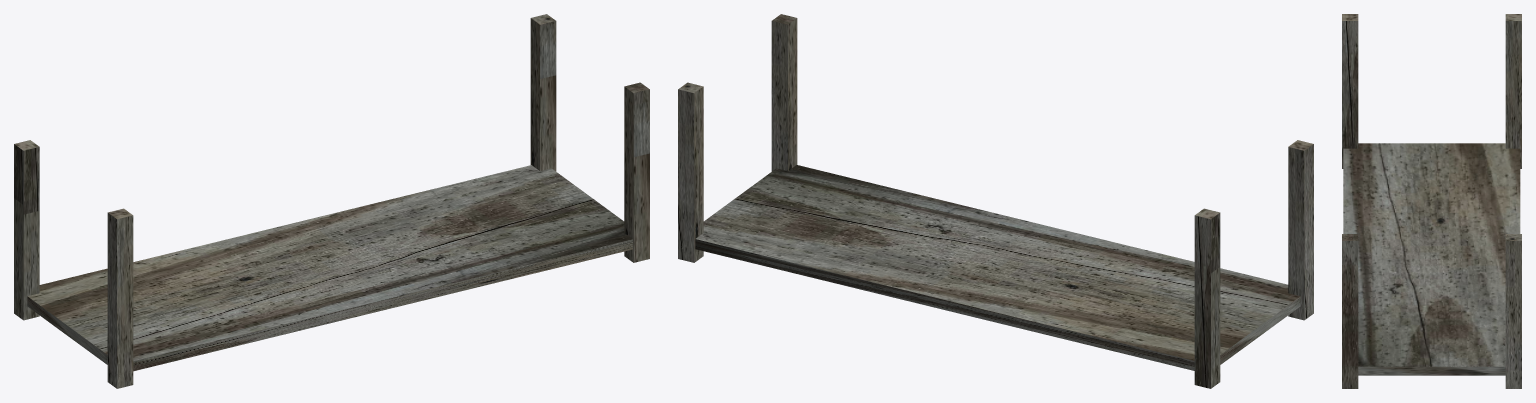
File: bridge concept.fbx
The picture shows the model from 3 angles, left to right: view 1: azimuth 30°, elevation 25°; view 2: azimuth 150°, elevation 25°; view 3: azimuth 270°, elevation 25°; orthographic projection. The views are drawn at different scales.
Parts seen in each view (by area): view 1: Cube.001, Cube.002, Cube; view 2: Cube.001, Cube.002, Cube; view 3: Cube.001, Cube, Cube.002.
Boxes of the visible parts, <box> form: Cube.001: <box>27,165,632,371</box>; Cube.002: <box>14,144,133,388</box>; Cube: <box>14,14,649,262</box>; Cube.001: <box>695,165,1300,370</box>; Cube.002: <box>1194,140,1313,388</box>; Cube: <box>678,14,1219,262</box>; Cube.001: <box>1343,143,1520,375</box>; Cube: <box>1342,14,1521,388</box>; Cube.002: <box>1342,14,1521,168</box>.
Size of the model in its own units: 1643 by 500 by 550.
